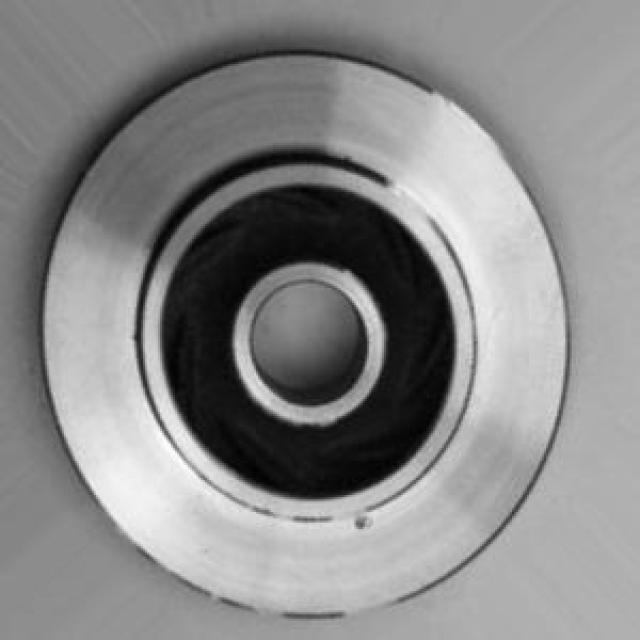Defect: (348, 508, 382, 544)
